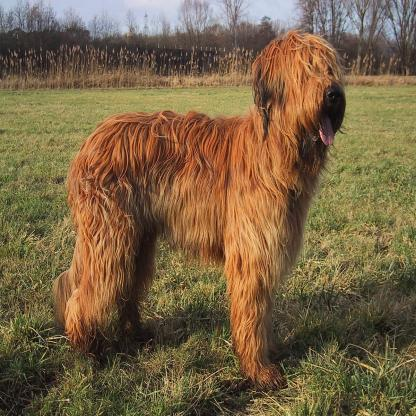Briard: (44, 27, 362, 416)
